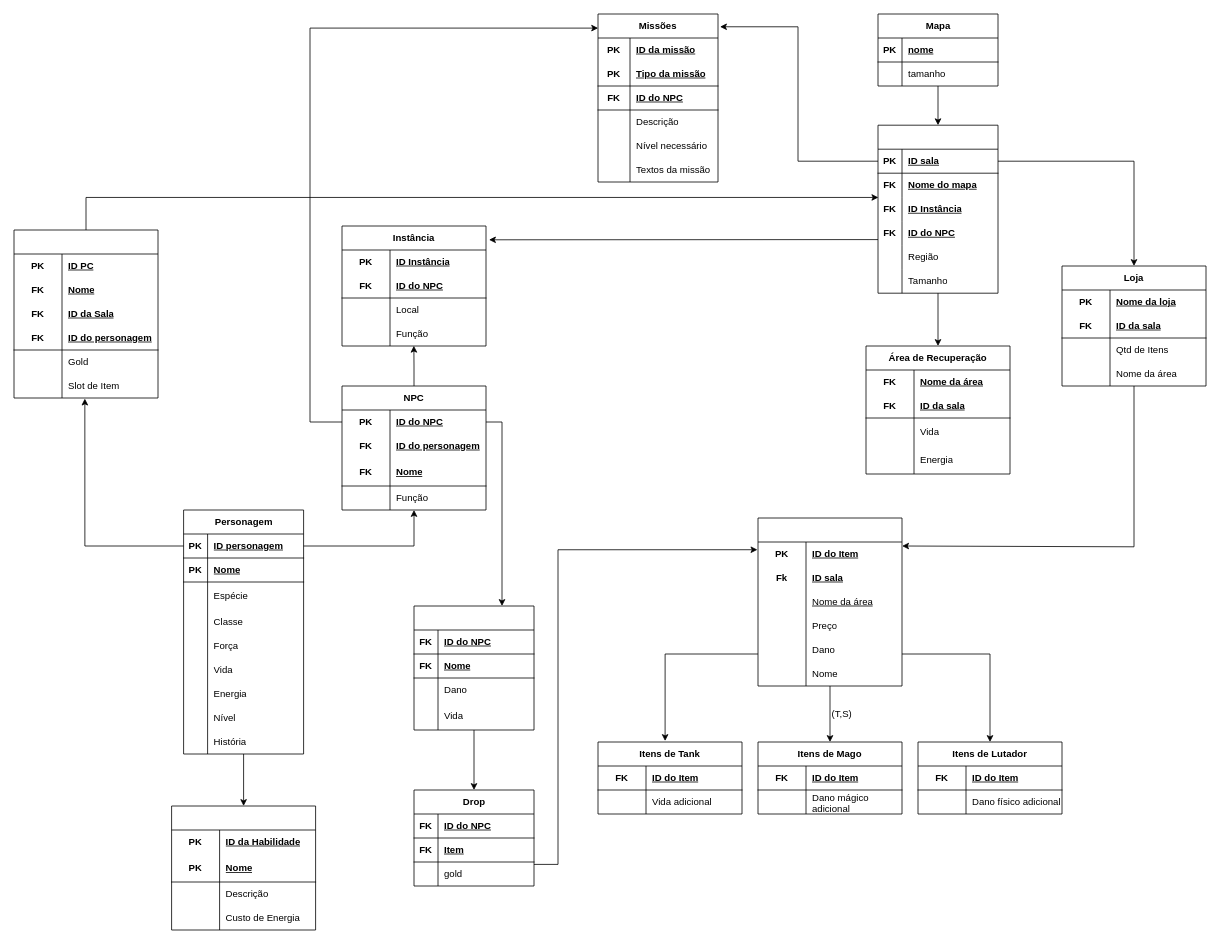
The diagram is 1220 pixels wide and 944 high, and some of its shapes have lost their labels. The box of each missing label's shape, as (x1, y1, x2, y2) in pixels:
Boss: (413, 605, 534, 730)
Habilidades: (171, 805, 316, 930)
Itens: (757, 517, 902, 686)
PC: (13, 229, 158, 398)
Salas: (877, 124, 998, 293)
